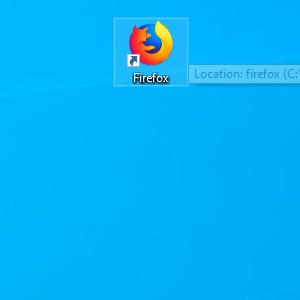firefox: (127, 20, 175, 67)
